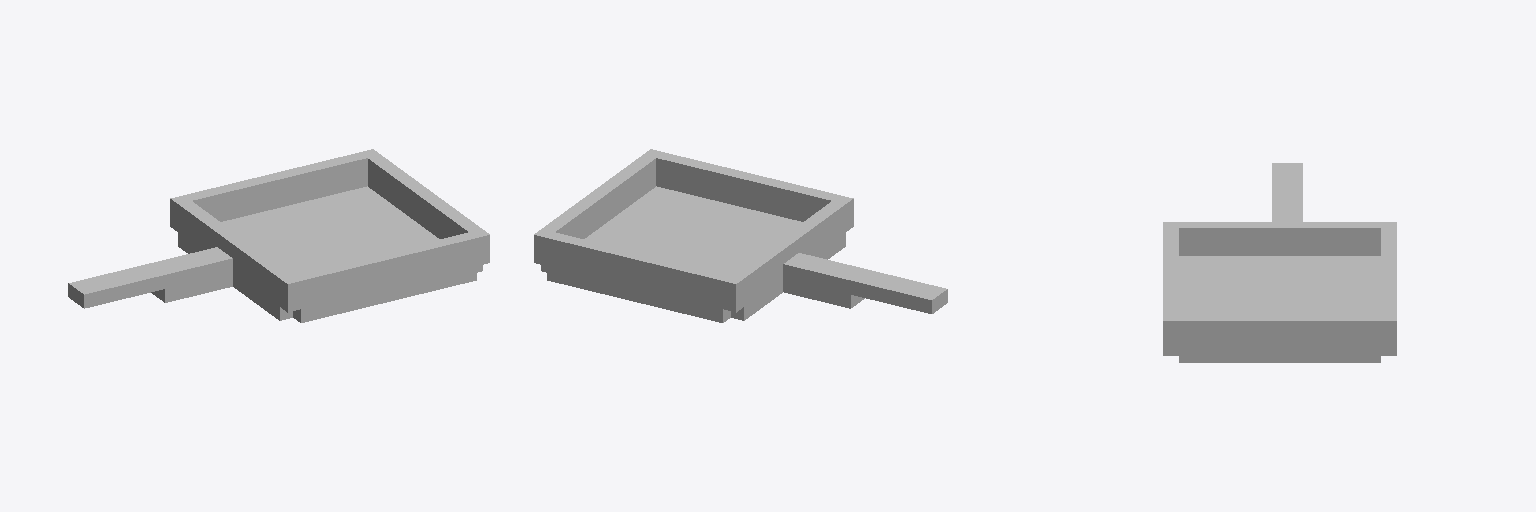
File: KitchenOPEN_Export-37.obj
3 renders of one model, left to right at view 1: azimuth 30°, elevation 25°; view 2: azimuth 150°, elevation 25°; view 3: azimuth 270°, elevation 25°, orthographic.
Visible parts, largest first — view 1: KitchenOPEN_Export-37; view 2: KitchenOPEN_Export-37; view 3: KitchenOPEN_Export-37.
Part boxes in pixels (x1,y1,x2,y2): KitchenOPEN_Export-37: (68,149,489,322); KitchenOPEN_Export-37: (534,149,947,322); KitchenOPEN_Export-37: (1163,163,1396,362).
Bounding box in the file's own units: 26 × 3 × 15.